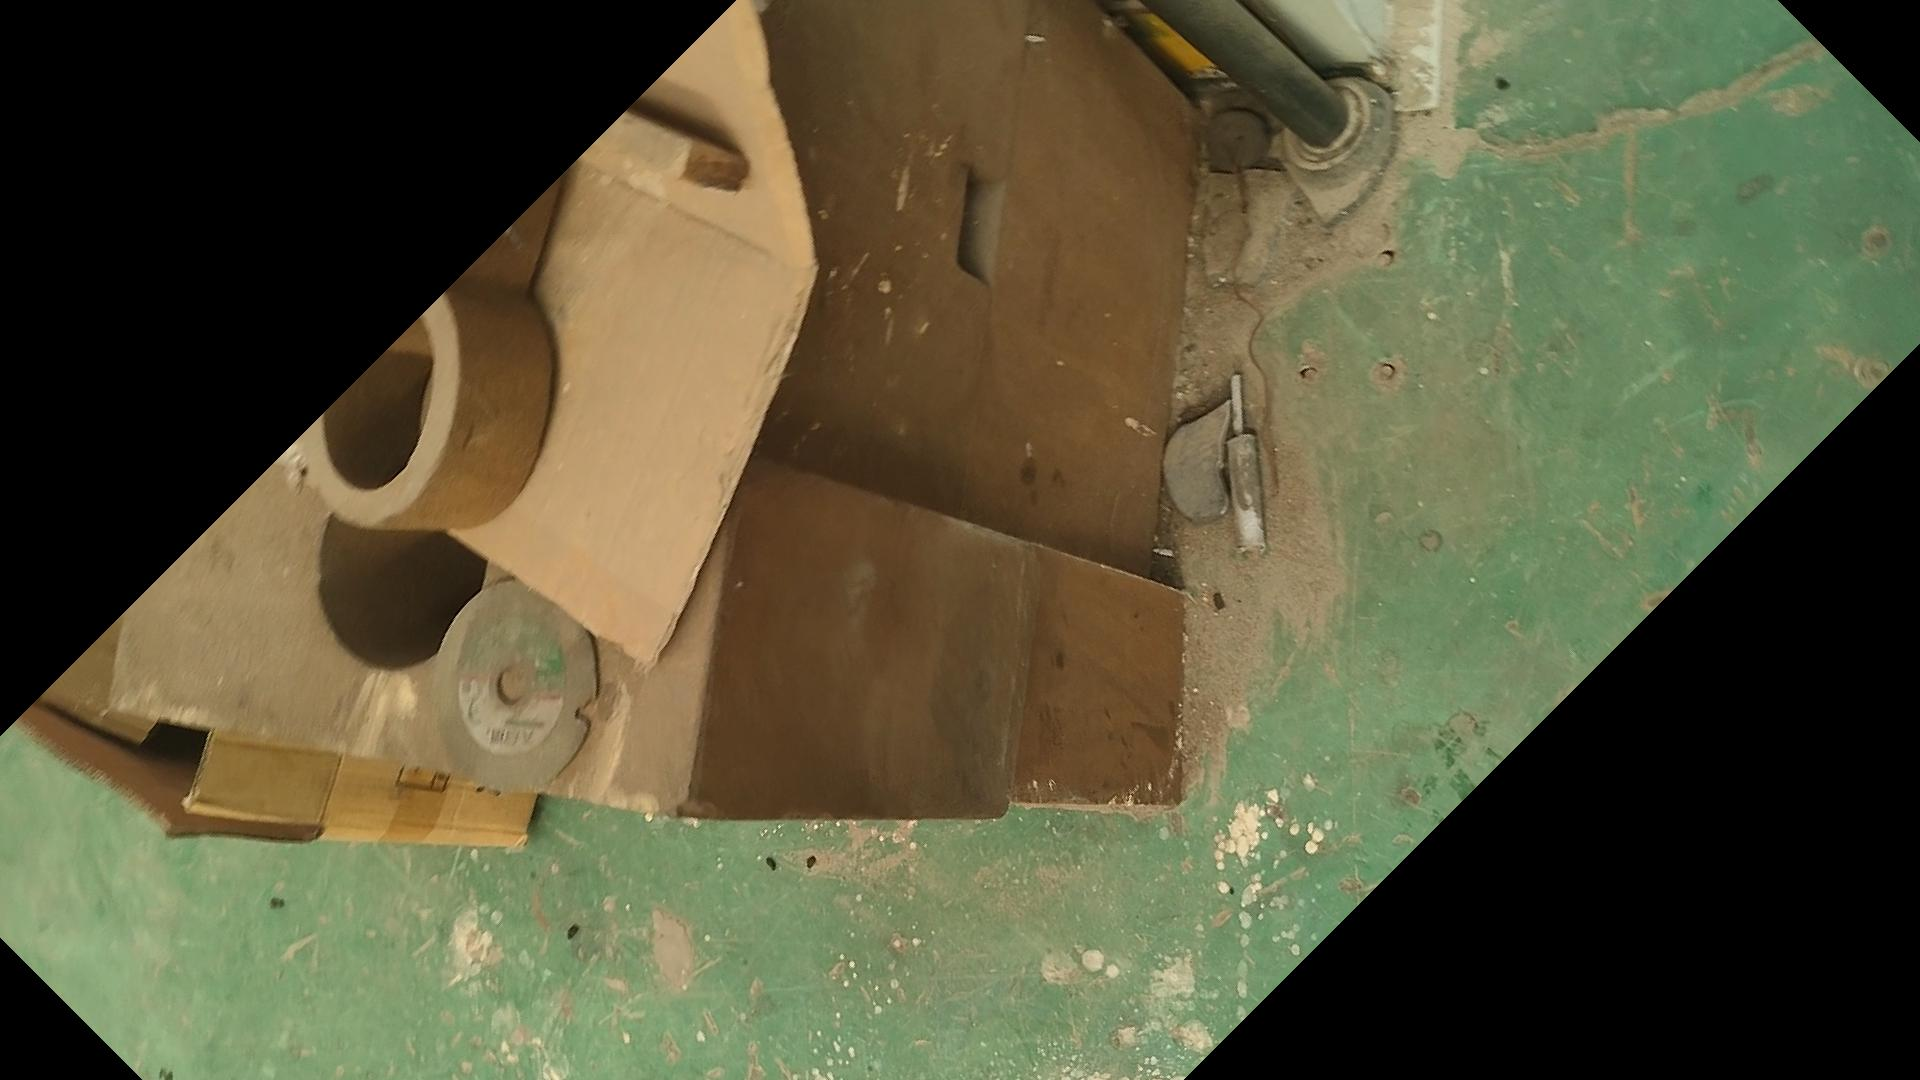pouring hole: (316, 502, 493, 670)
